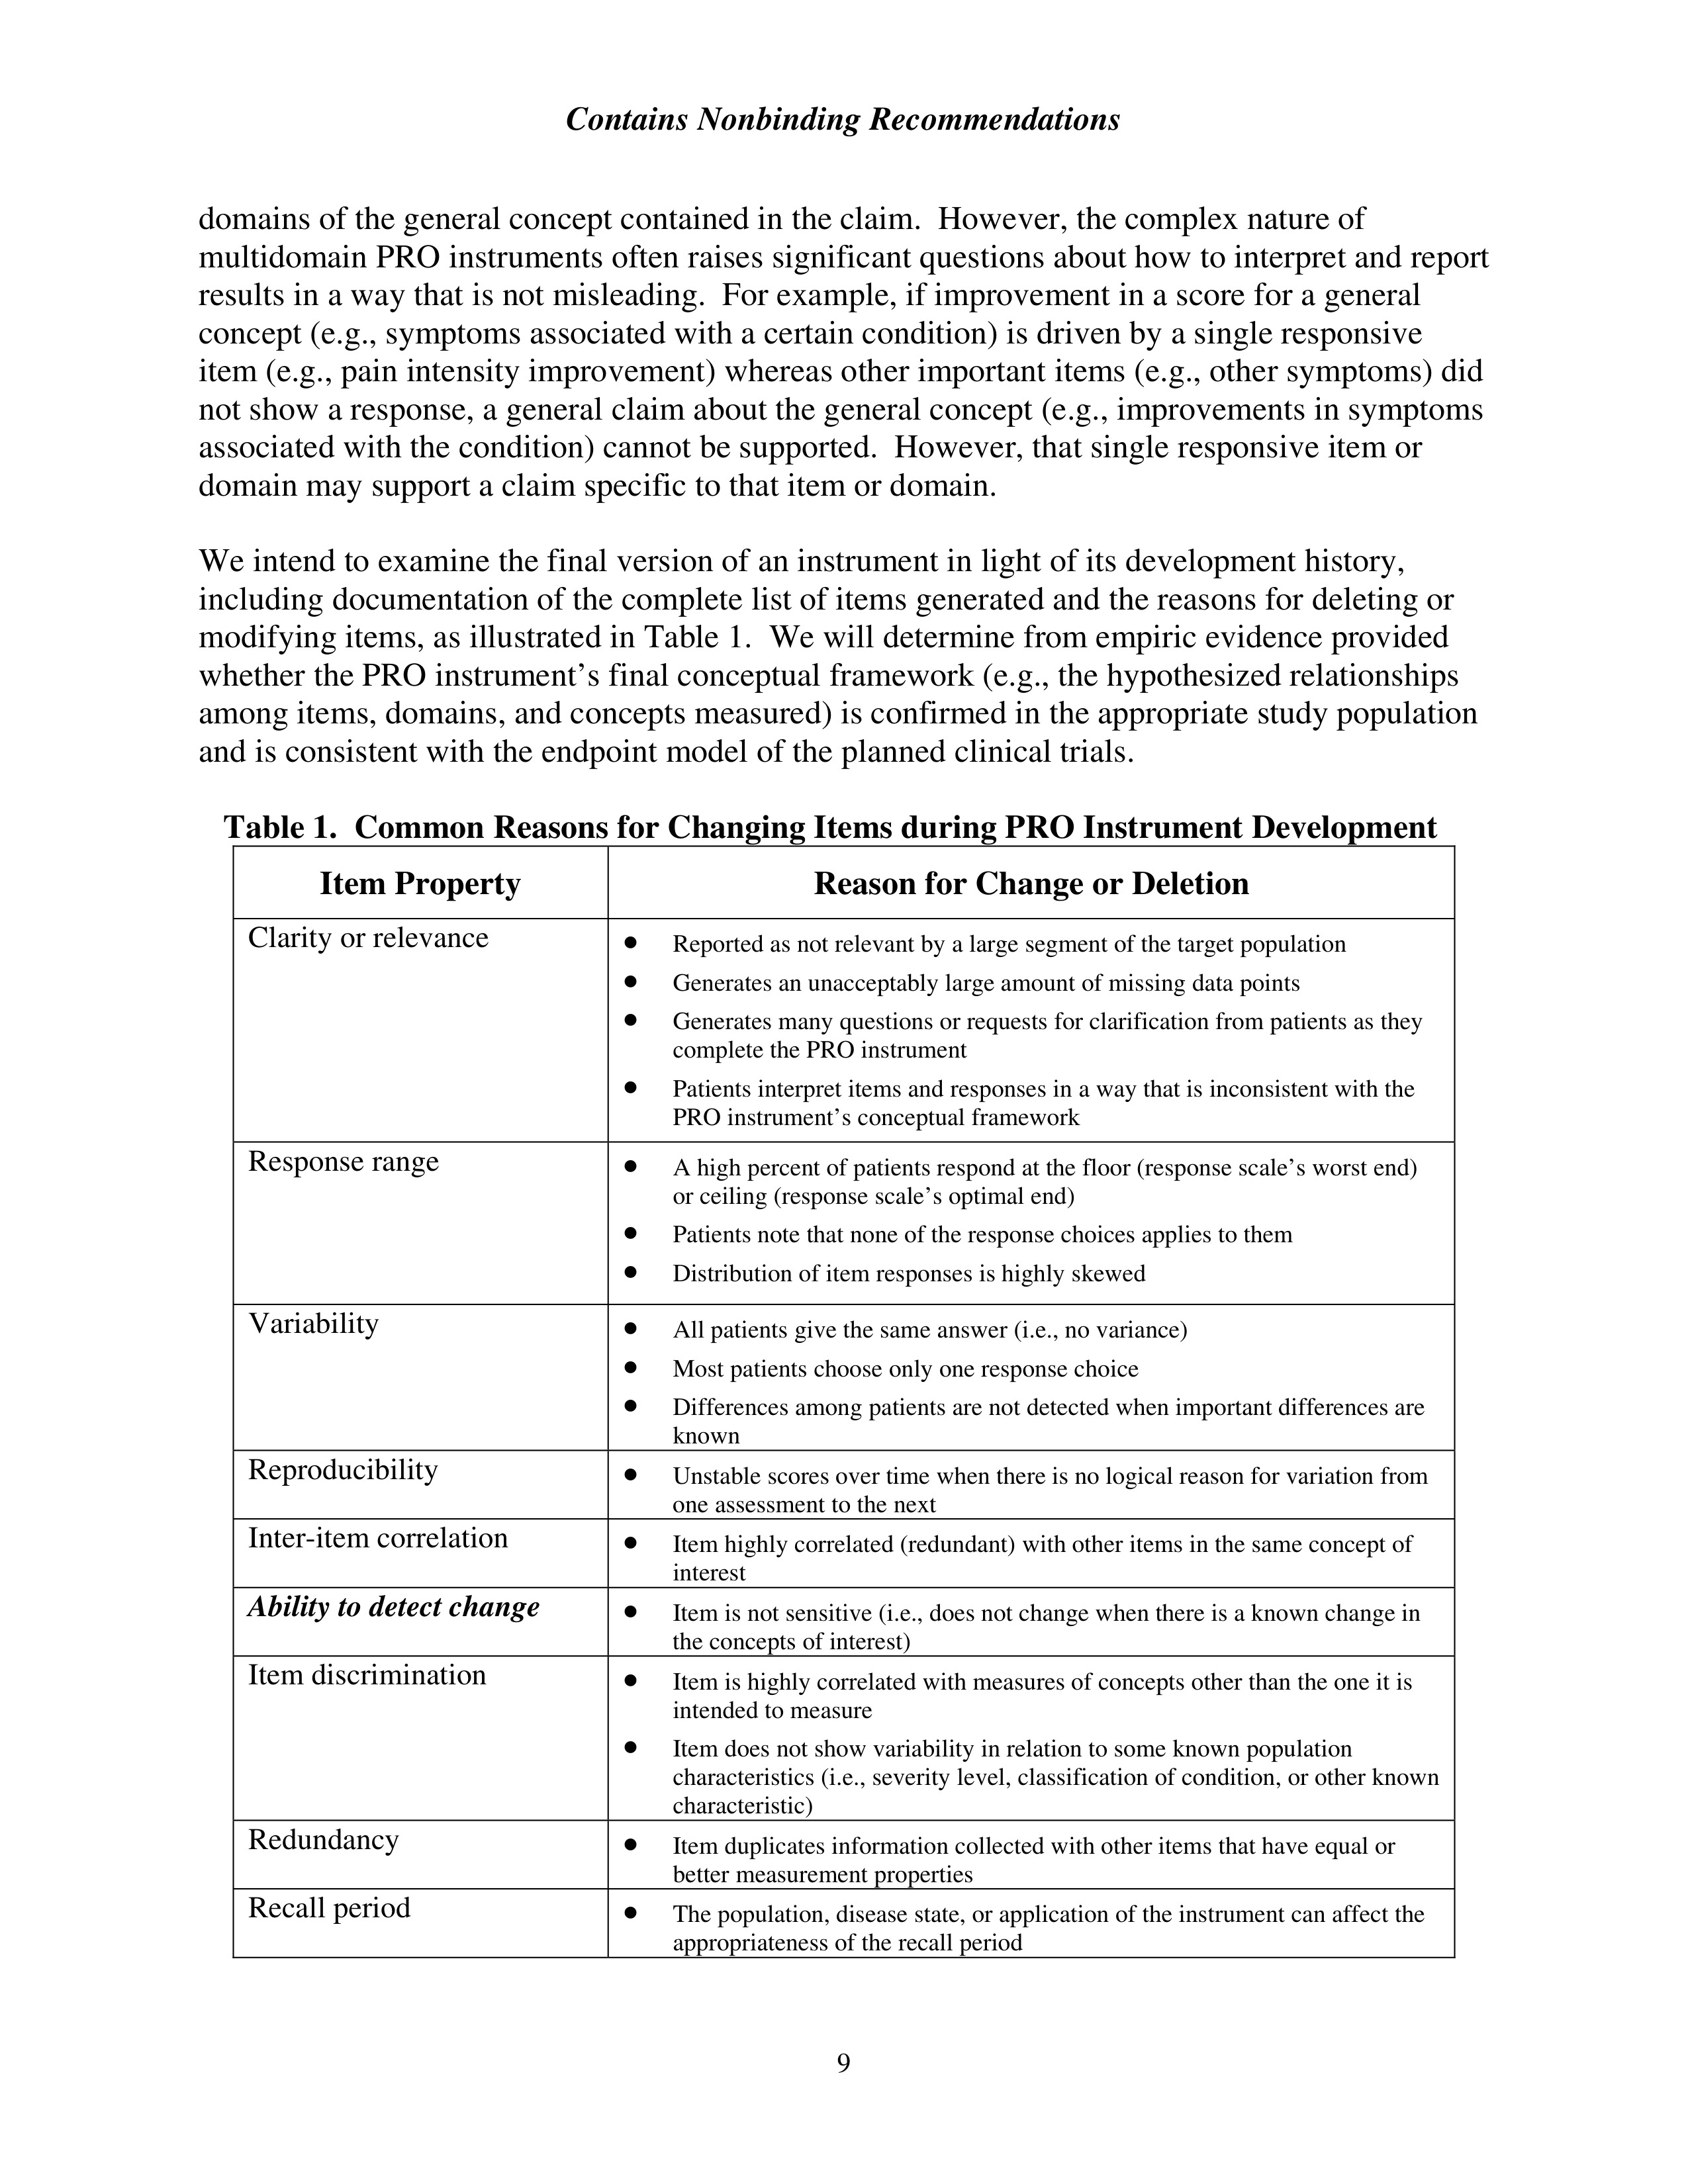table: (248, 860, 1440, 1957)
